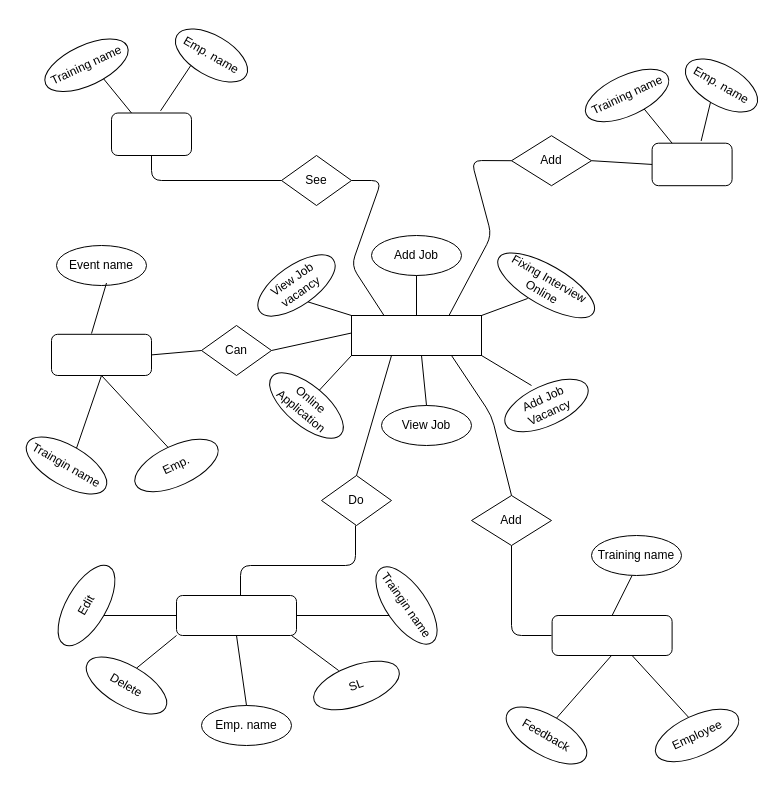
Some shapes in this 784 by 793 pixel diagram are drawn without their labels. The shapes that lost their labels are listed below. From the top down, each one's box as (x1, y1, x2, y2) in pixels, then its label:
(110, 112, 192, 156): View Training
(651, 142, 732, 186): Add Training
(50, 333, 152, 376): Training to Emp.
(350, 314, 482, 356): Recruitment
(176, 594, 296, 636): Reg. emp. for traingin
(551, 614, 672, 656): Traingin to feedback
